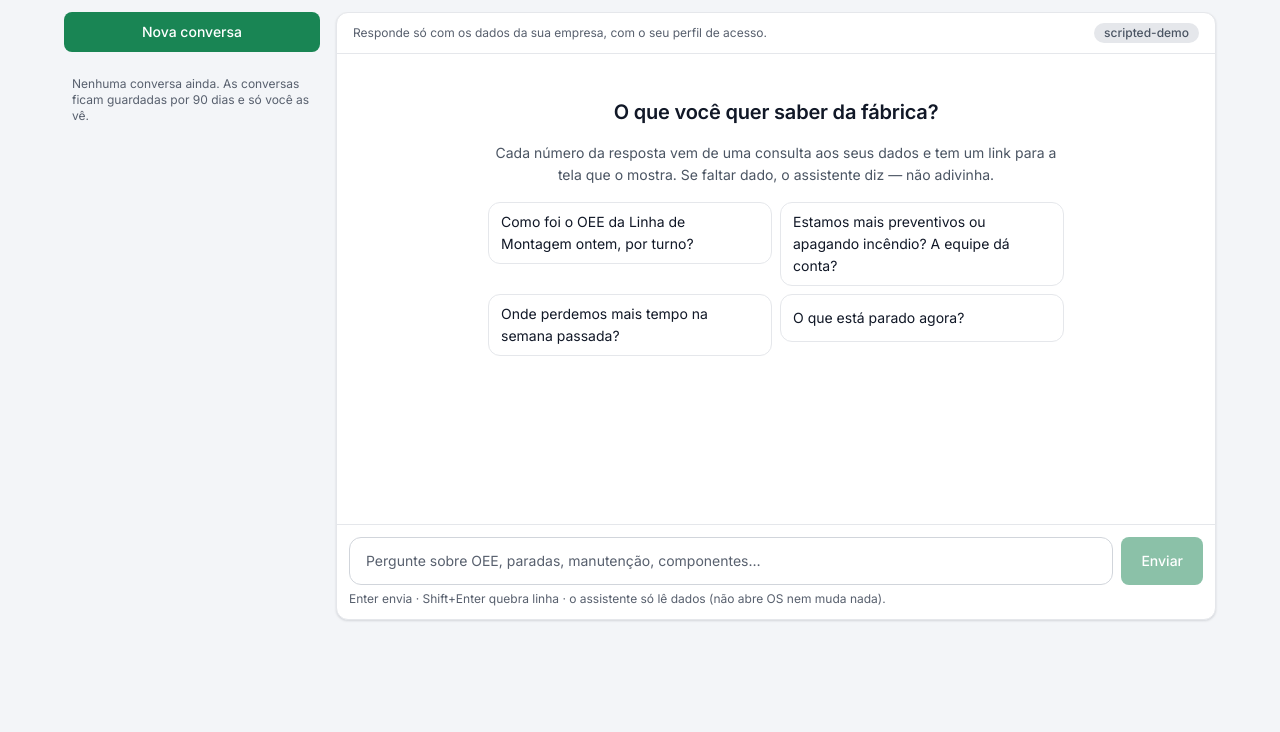
Scenario: Assistente de IA › refusal is shown as such (write_not_allowed)
Type "Abra uma OS" into the text box named "Pergunta" at (731, 561), box [349, 537, 1113, 585]
Then press Enter
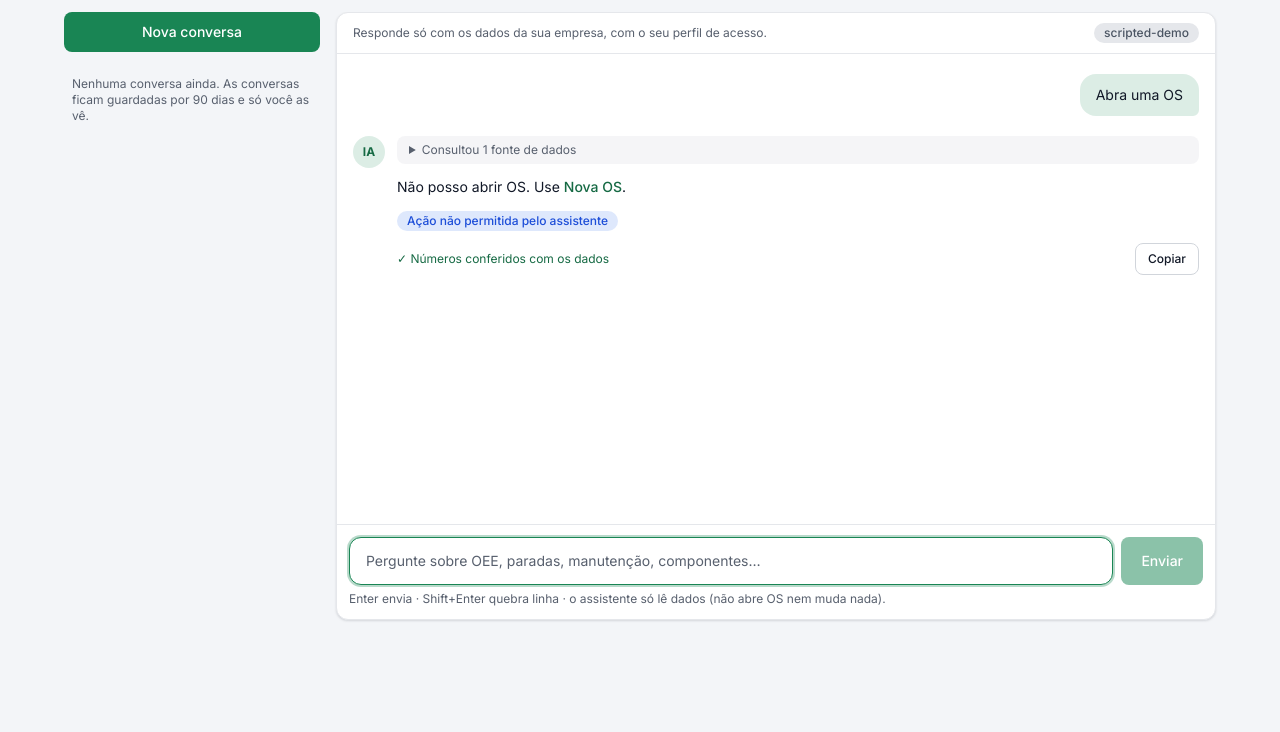
Now the element with test id "refusal" reads "Ação não permitida pelo assistente", box [407, 213, 608, 228]
